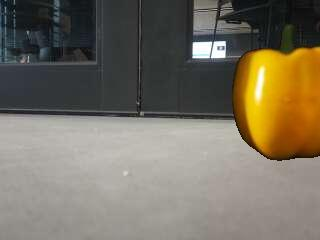Capsicum: (232, 24, 320, 161)
